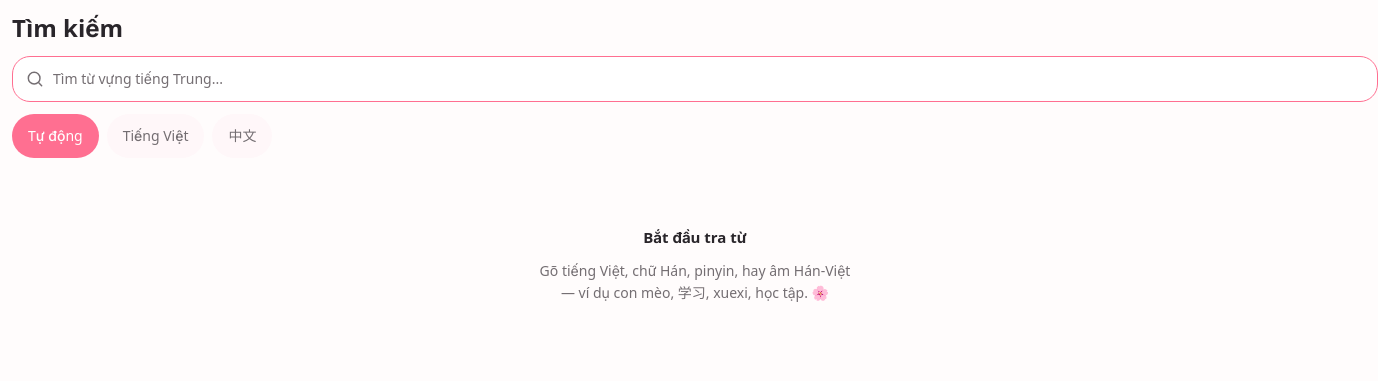
Scenario: nút hiện đúng lúc nó làm được việc › KHÔNG hiện khi AI đã trả lời
Type "bác sĩ" into the search field at coordinates (709, 79), box 53,57 -> 1365,101
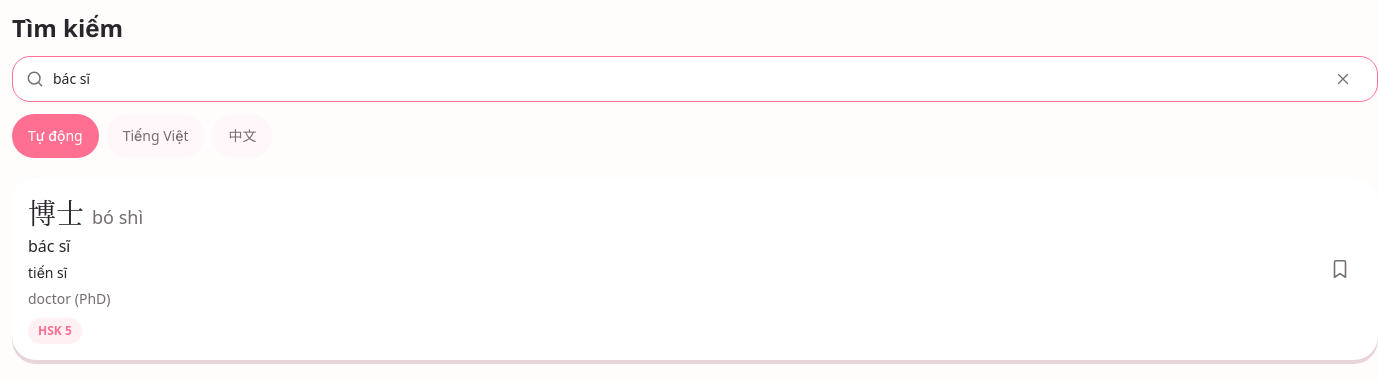
Expected: the text "博士" is shown, 28,194 -> 84,230
